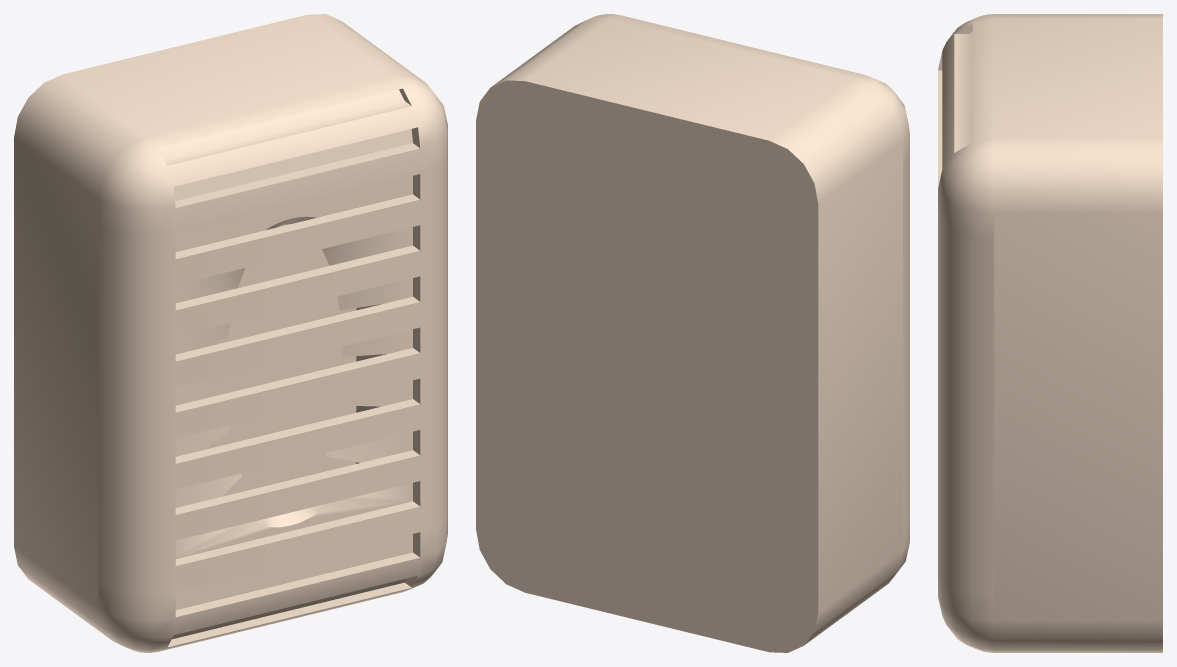
File: Speaker.FBX
The picture shows the model from 3 angles, left to right: view 1: azimuth 30°, elevation 25°; view 2: azimuth 150°, elevation 25°; view 3: azimuth 270°, elevation 25°; orthographic projection.
Parts seen in each view (by area): view 1: Speaker; view 2: Speaker; view 3: Speaker.
Part boxes in pixels (x1,y1,x2,y2): Speaker: (14, 14, 447, 652); Speaker: (476, 14, 909, 652); Speaker: (938, 14, 1162, 652).
Size of what is drawn, in the model's own units: 7 by 4 by 10.
